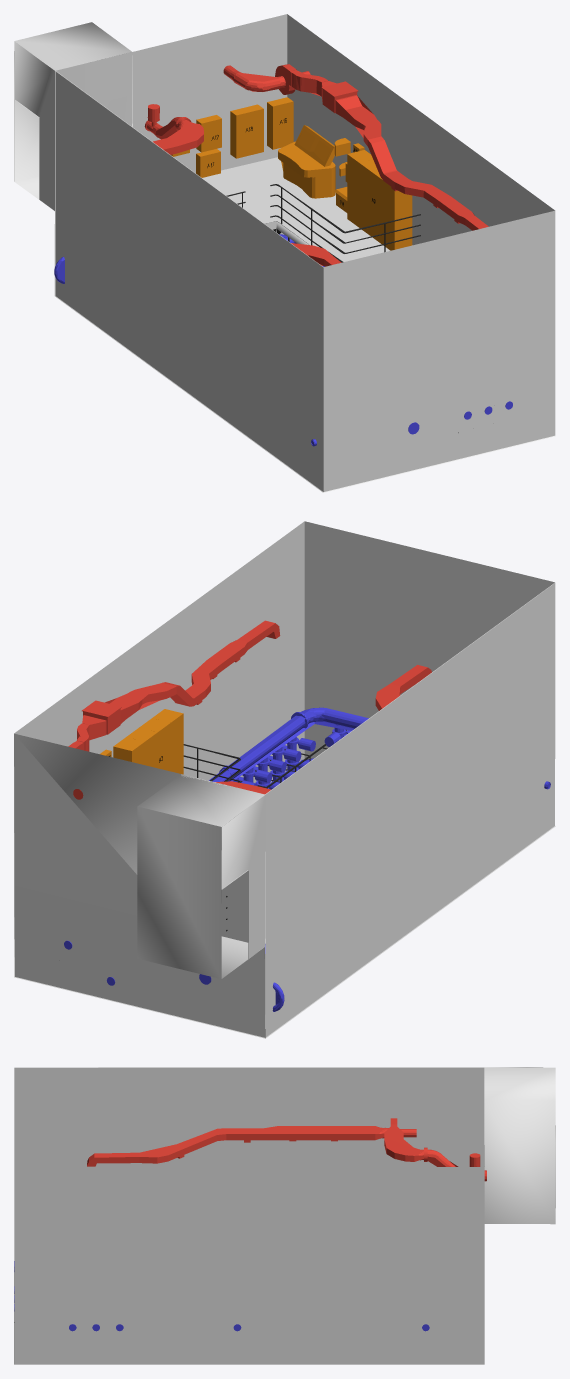
The model's file is Low_Pole_re.fbx.
3 views of the same model, one above another, from view 1: azimuth 30°, elevation 25°; view 2: azimuth 150°, elevation 25°; view 3: azimuth 270°, elevation 25° (orthographic). The views are drawn at different scales.
Parts seen in each view (by area): view 1: Korpus_2, Regk_109_Or_Asm_1.004_Regk_109_Or_Asm_1.005; view 2: Korpus_2, Regk_109_Or_Asm_1.004_Regk_109_Or_Asm_1.005; view 3: Korpus_2, Regk_109_Or_Asm_1.004_Regk_109_Or_Asm_1.005.
Part boxes in pixels (<box>): Korpus_2: <box>14,14,555,492</box>; Regk_109_Or_Asm_1.004_Regk_109_Or_Asm_1.005: <box>54,64,512,446</box>; Korpus_2: <box>14,521,555,1038</box>; Regk_109_Or_Asm_1.004_Regk_109_Or_Asm_1.005: <box>64,620,550,1011</box>; Korpus_2: <box>14,1067,555,1364</box>; Regk_109_Or_Asm_1.004_Regk_109_Or_Asm_1.005: <box>14,1118,486,1331</box>.
Bounding box in the file's own units: 700 × 640 × 1555.
